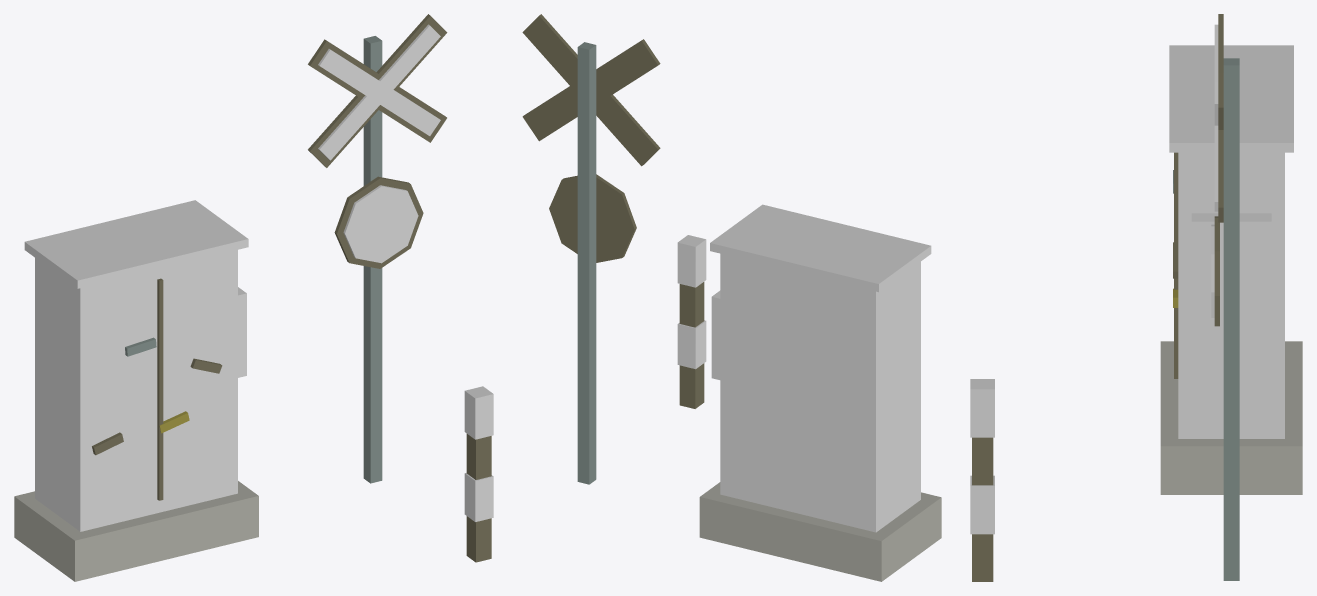
Rendered from SM_ArmarioAdif_v1_Pintado_LOD0.fbx.
3 renders of one model, left to right at view 1: azimuth 30°, elevation 25°; view 2: azimuth 150°, elevation 25°; view 3: azimuth 270°, elevation 25°, orthographic. The views are drawn at different scales.
Visible parts, largest first — view 1: SM_sagunto_vivo_v11_LOD0; view 2: SM_sagunto_vivo_v11_LOD0; view 3: SM_sagunto_vivo_v11_LOD0.
Part boxes in pixels (x1=…): SM_sagunto_vivo_v11_LOD0: x1=14, y1=14, x2=493, y2=581; SM_sagunto_vivo_v11_LOD0: x1=522, y1=14, x2=941, y2=581; SM_sagunto_vivo_v11_LOD0: x1=970, y1=14, x2=1302, y2=581.
Bounding box in the file's own units: 3.02 × 3.31 × 1.87.
